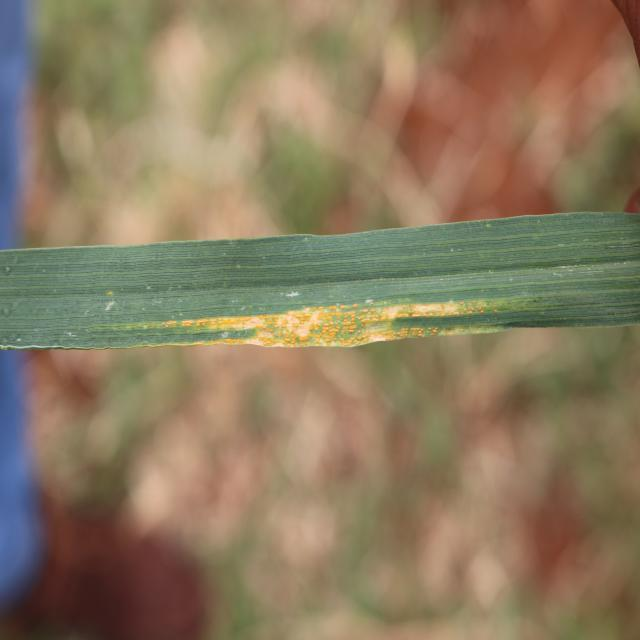Stripe Rust: (150, 300, 495, 350)
